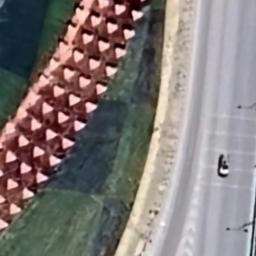sedan: (216, 148, 234, 182)
